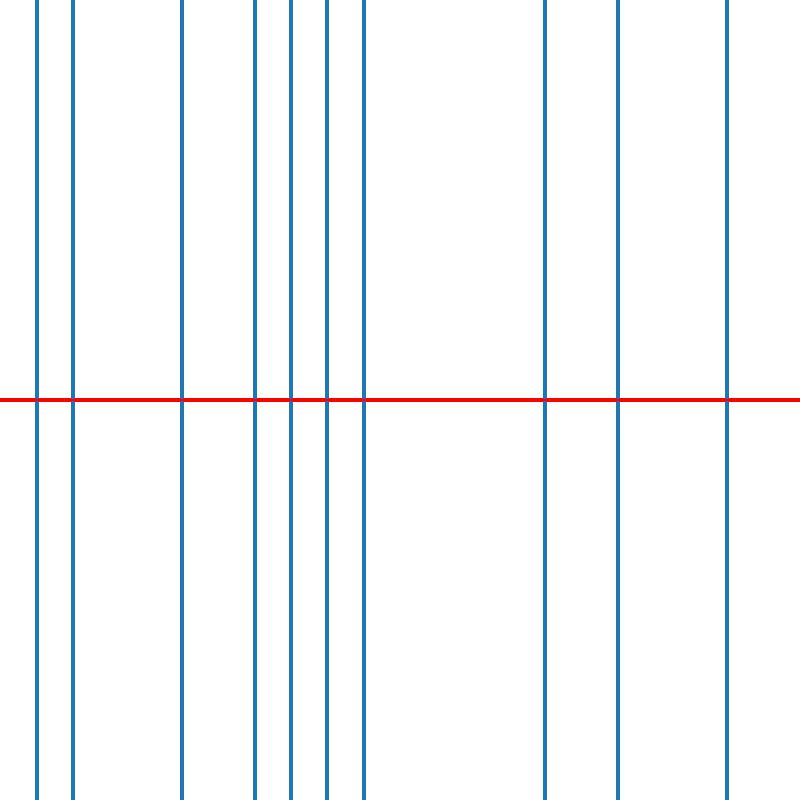root: (541, 396, 549, 404), (32, 396, 40, 404), (250, 396, 258, 404), (360, 396, 367, 404), (323, 396, 330, 404), (287, 396, 294, 404), (178, 396, 185, 404), (614, 396, 621, 404), (723, 396, 730, 404), (69, 396, 76, 404)
